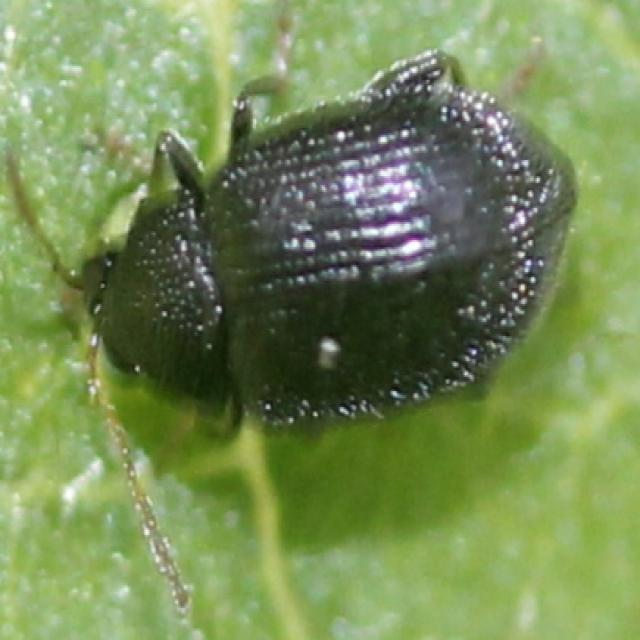flea_beetle: (12, 54, 582, 588)
